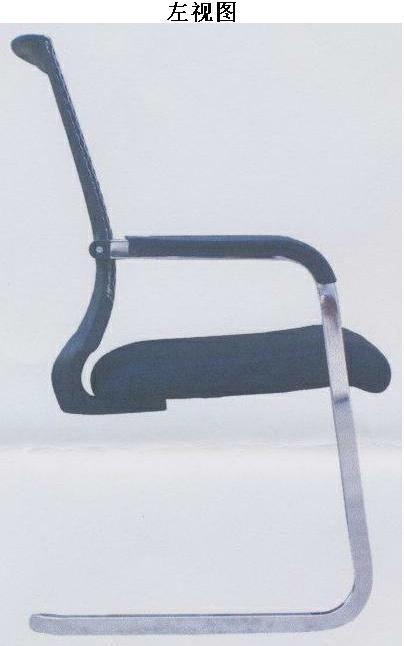obstacle: (12, 34, 388, 634)
